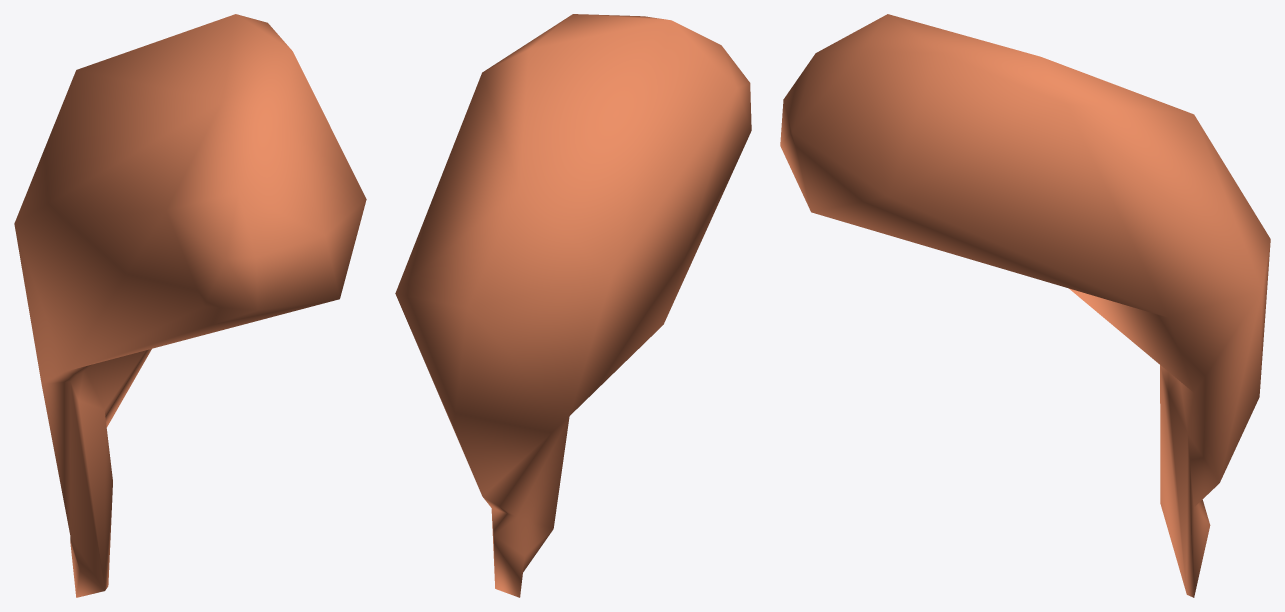
The model's file is Epididymis_left.glb.
3 renders of one model, left to right at view 1: azimuth 30°, elevation 25°; view 2: azimuth 150°, elevation 25°; view 3: azimuth 270°, elevation 25°, orthographic. The views are drawn at different scales.
Visible parts, largest first — view 1: Epididymis.l_Generated_Mesh_From_X3D.112; view 2: Epididymis.l_Generated_Mesh_From_X3D.112; view 3: Epididymis.l_Generated_Mesh_From_X3D.112.
Boxes of the visible parts, x1=… form: Epididymis.l_Generated_Mesh_From_X3D.112: x1=14, y1=14, x2=366, y2=597; Epididymis.l_Generated_Mesh_From_X3D.112: x1=395, y1=14, x2=751, y2=597; Epididymis.l_Generated_Mesh_From_X3D.112: x1=780, y1=14, x2=1270, y2=597.
Size of the model in its own units: 0.00968 by 0.0253 by 0.0198.
